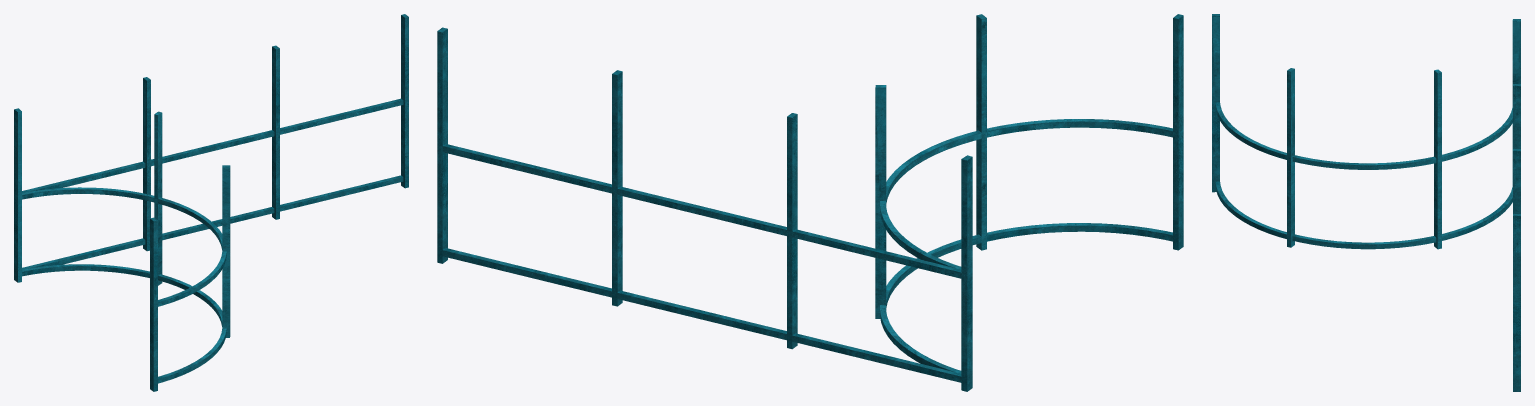
File: props rail.fbx
3 views of the same model, side by side, from view 1: azimuth 30°, elevation 25°; view 2: azimuth 150°, elevation 25°; view 3: azimuth 270°, elevation 25° (orthographic). The views are drawn at different scales.
Parts seen in each view (by area): view 1: Rail_Straight, Rail_Curved; view 2: Rail_Straight, Rail_Curved; view 3: Rail_Curved, Rail_Straight.
Part boxes in pixels (box(x1,y1,x2,y2)): Rail_Straight: box(14, 14, 408, 282); Rail_Curved: box(18, 108, 230, 391); Rail_Straight: box(437, 27, 972, 391); Rail_Curved: box(875, 14, 1183, 390); Rail_Curved: box(1212, 14, 1520, 249); Rail_Straight: box(1513, 19, 1520, 391).
Size of the model in its own units: 214 by 87.11 by 139.
